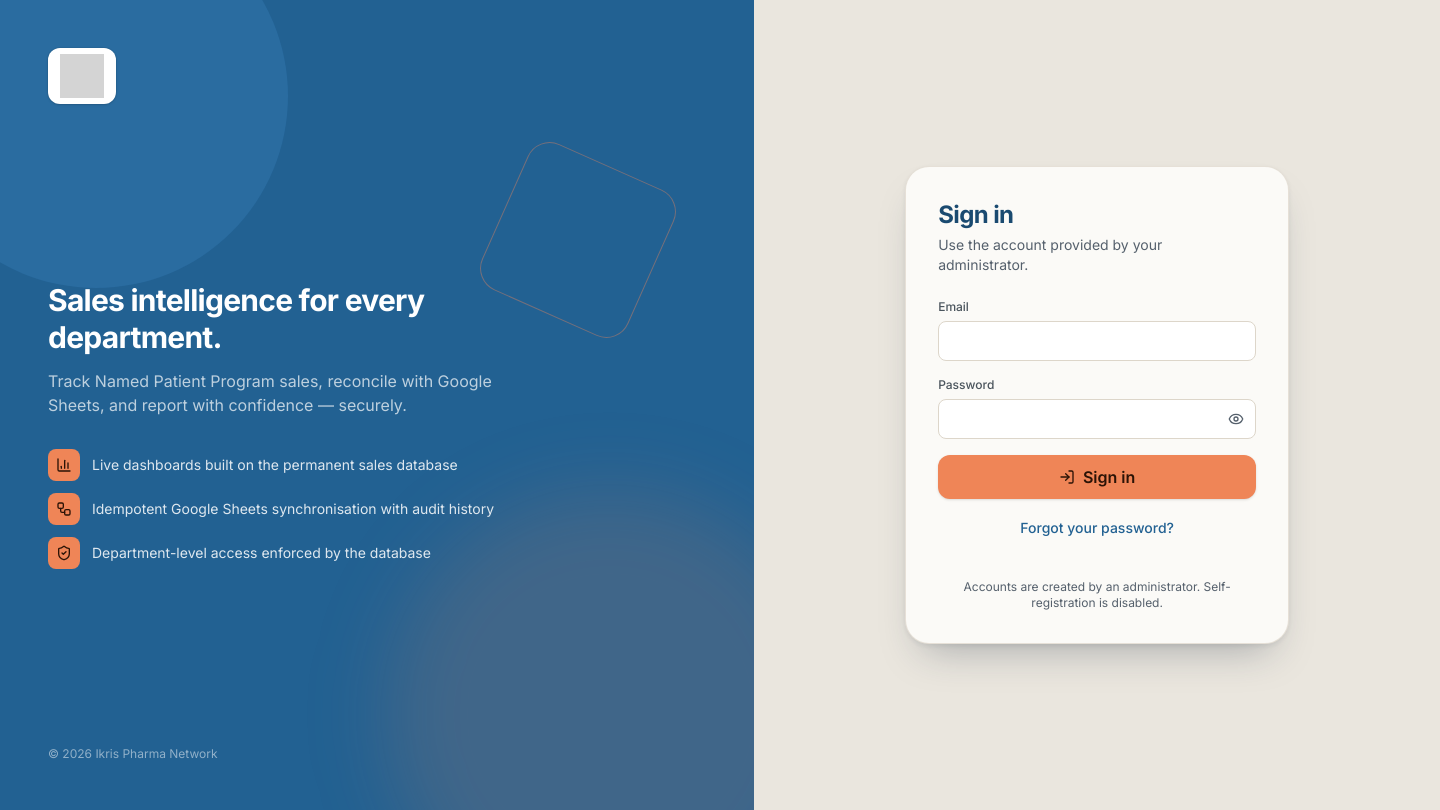
LoginPage › validates required fields before calling the API
Click the button "Sign in".
click(1097, 477)  # box [938, 455, 1256, 499]
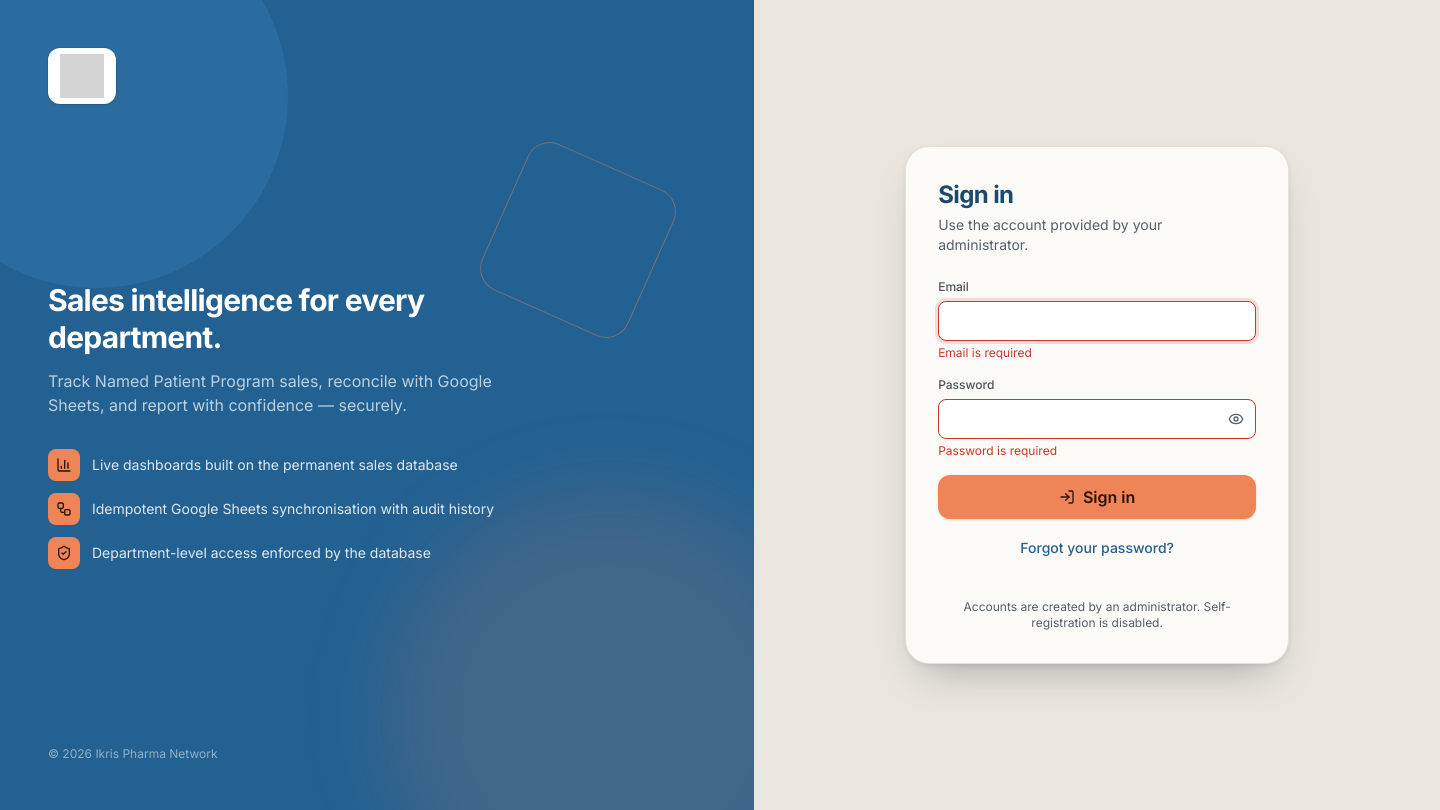
Now the text "Email is required" is shown, box [938, 345, 1032, 360]
Now the text "Password is required" is shown, box [938, 443, 1057, 458]
